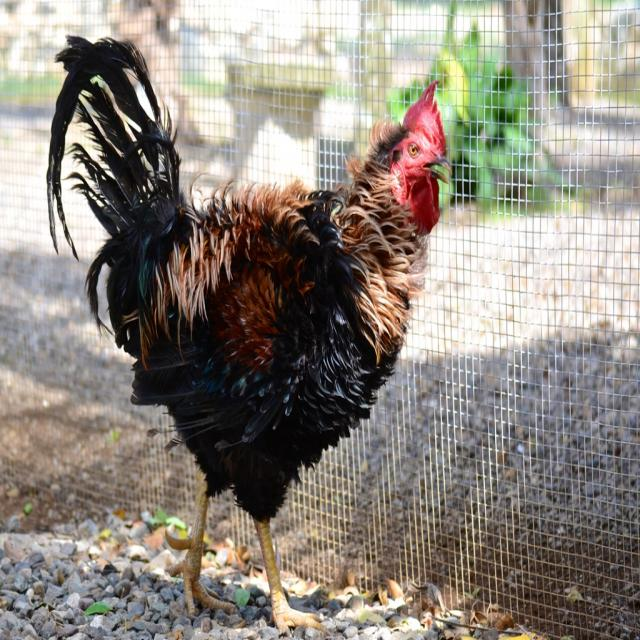Chicken: (41, 26, 452, 631)
